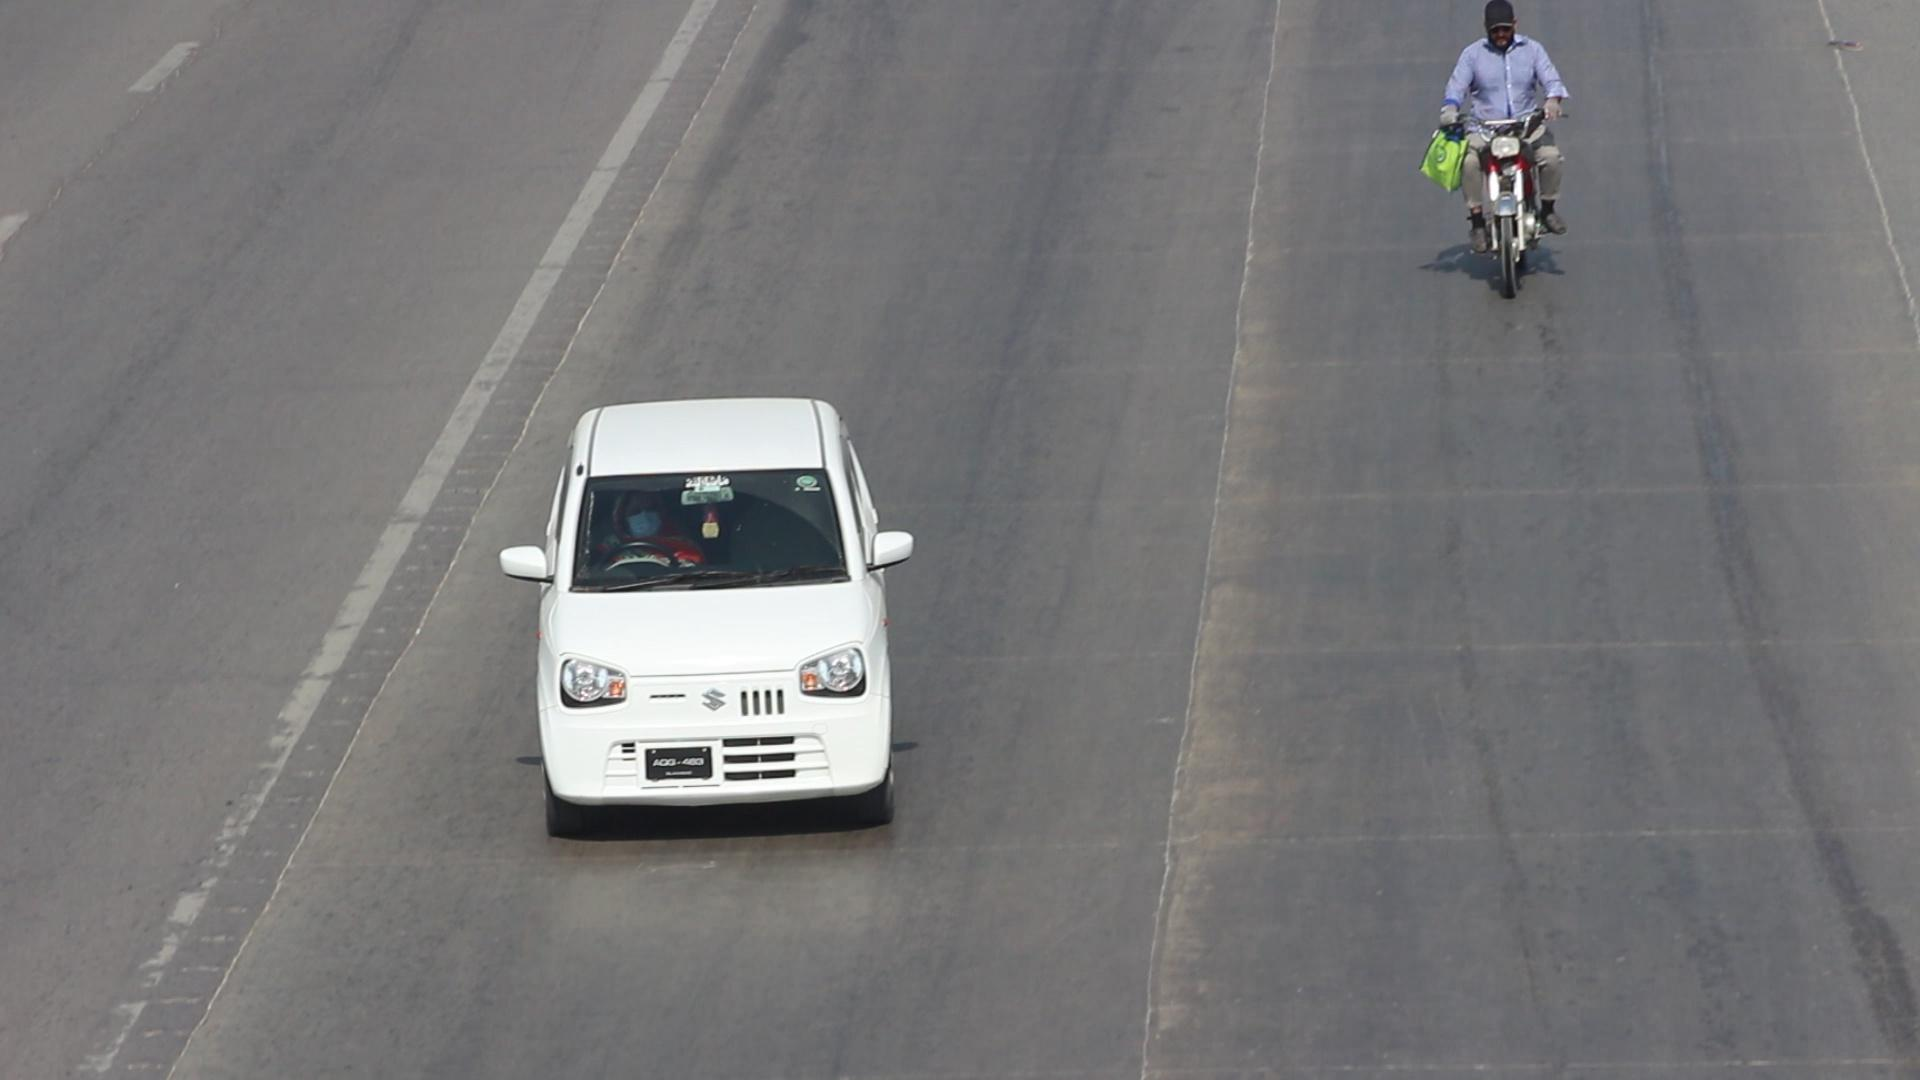windshield: (558, 450, 857, 604)
